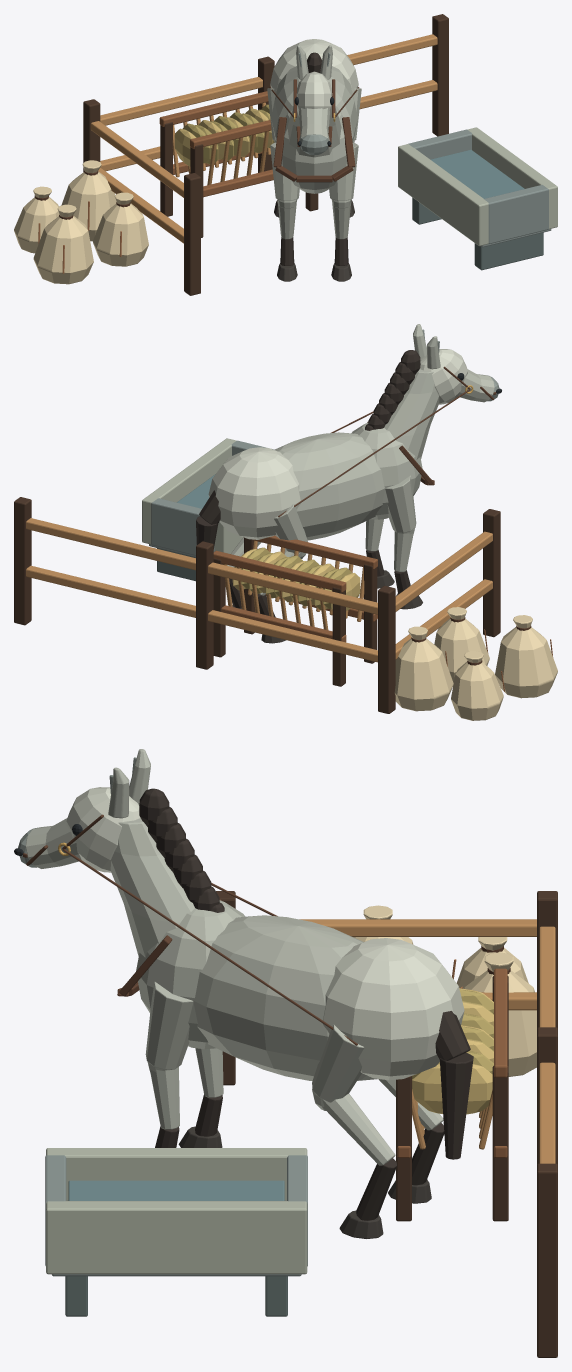
The model's file is paddock_corner.glb.
3 views of the same model, one above another, from view 1: azimuth 30°, elevation 25°; view 2: azimuth 150°, elevation 25°; view 3: azimuth 270°, elevation 25° (orthographic). The views are drawn at different scales.
Visible parts, largest first — view 1: water_trough__structure.001, horse_grey__structure.001, cargo_sacks__structure.001, hay_rack__structure.001, stable_rail__structure.003, stable_rail__structure.001, stable_rail__structure.002, hay_rack__attachments.001, water_trough__finish.001, horse_grey__attachments.001, horse_grey__finish.001, cargo_sacks__attachments.001; view 2: horse_grey__structure.001, cargo_sacks__structure.001, hay_rack__structure.001, stable_rail__structure.001, stable_rail__structure.002, water_trough__structure.001, stable_rail__structure.003, horse_grey__finish.001, hay_rack__attachments.001, horse_grey__attachments.001, water_trough__finish.001; view 3: horse_grey__structure.001, water_trough__structure.001, horse_grey__finish.001, hay_rack__structure.001, stable_rail__structure.002, stable_rail__structure.003, cargo_sacks__structure.001, water_trough__finish.001, hay_rack__attachments.001, stable_rail__structure.001, horse_grey__attachments.001.
Boxes of the visible parts, x1,y1,x2,y2 form: water_trough__structure.001: (398,127,557,270); horse_grey__structure.001: (267,39,361,265); cargo_sacks__structure.001: (14,160,148,284); hay_rack__structure.001: (159,91,318,237); stable_rail__structure.003: (83,99,200,295); stable_rail__structure.001: (83,56,274,172); stable_rail__structure.002: (258,14,448,171); hay_rack__attachments.001: (174,104,274,166); water_trough__finish.001: (431,150,524,198); horse_grey__attachments.001: (269,79,359,182); horse_grey__finish.001: (274,52,354,281); cargo_sacks__attachments.001: (34,170,130,273); horse_grey__structure.001: (208,324,494,617); cargo_sacks__structure.001: (394,607,557,720); hay_rack__structure.001: (213,535,377,686); stable_rail__structure.001: (196,541,395,713); stable_rail__structure.002: (14,497,212,669); water_trough__structure.001: (142,438,274,581); stable_rail__structure.003: (378,509,500,712); horse_grey__finish.001: (196,329,501,643); hay_rack__attachments.001: (232,547,360,611); horse_grey__attachments.001: (278,366,496,517); water_trough__finish.001: (177,474,215,508); horse_grey__structure.001: (25,749,464,1220); water_trough__structure.001: (45,1148,307,1316); horse_grey__finish.001: (14,757,473,1238); hay_rack__structure.001: (396,968,508,1221); stable_rail__structure.002: (537,1031,557,1357); stable_rail__structure.003: (216,891,556,1085); cargo_sacks__structure.001: (353,905,536,1076); water_trough__finish.001: (68,1180,284,1200); hay_rack__attachments.001: (412,988,493,1114); stable_rail__structure.001: (537,891,557,1164); horse_grey__attachments.001: (23,814,357,1045).
Size of the model in its own units: 5.29 by 2.7 by 3.37.
